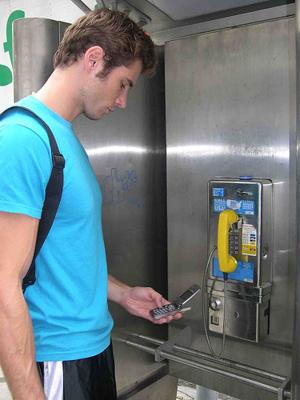person: (2, 13, 183, 400)
